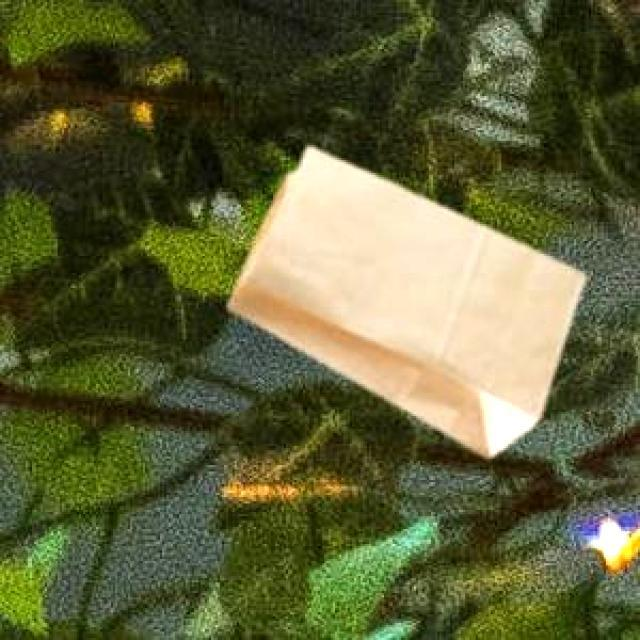Paper_Bag: (224, 144, 582, 454)
